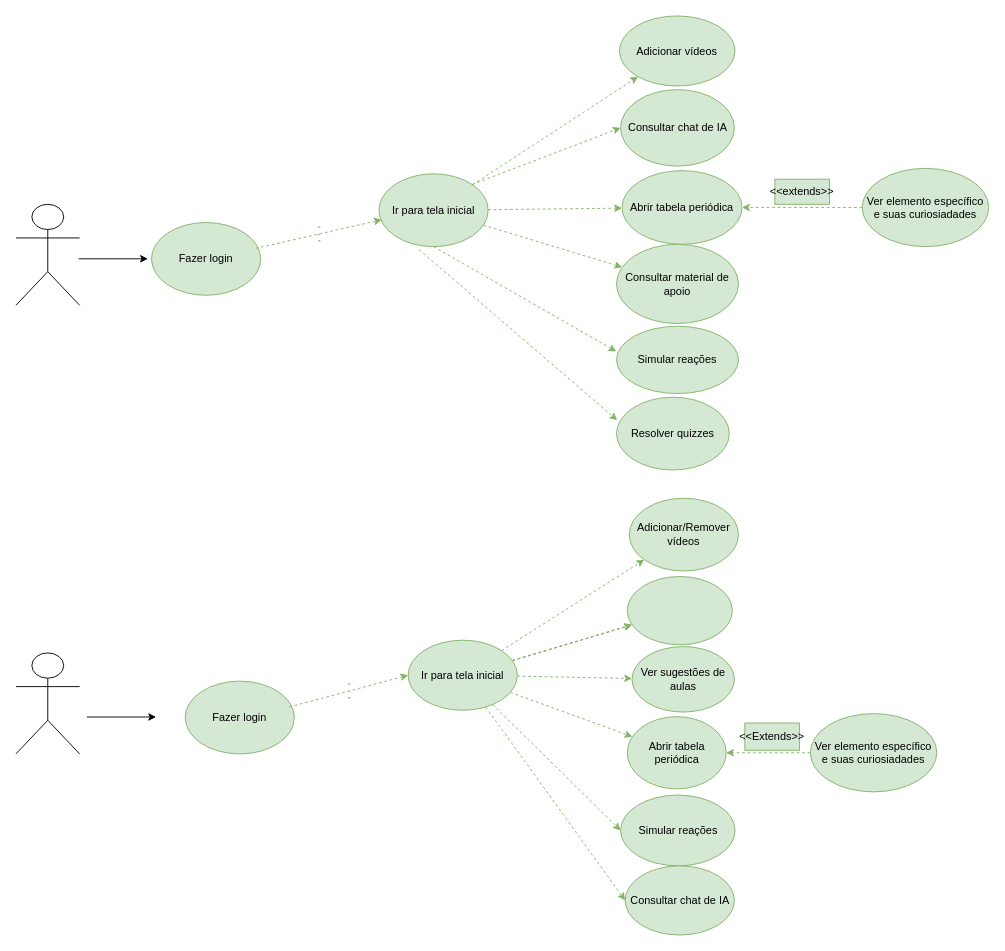
This 1005x951 diagram has some shape labels left out. The centre of each missing label's shape, as x and y in pixels:
Aluno: point 47,254
Escolher/montar quizes: point 679,610
Professor: point 47,703
